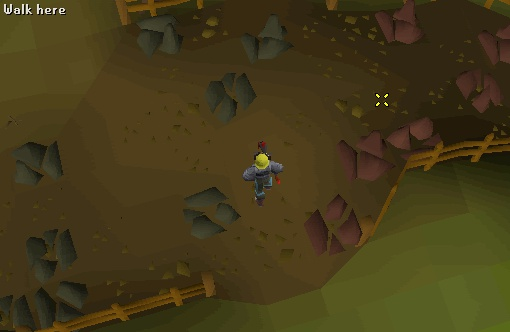coal: (171, 178, 246, 246), (190, 63, 265, 131)
iron: (292, 191, 372, 263), (324, 125, 404, 197)
